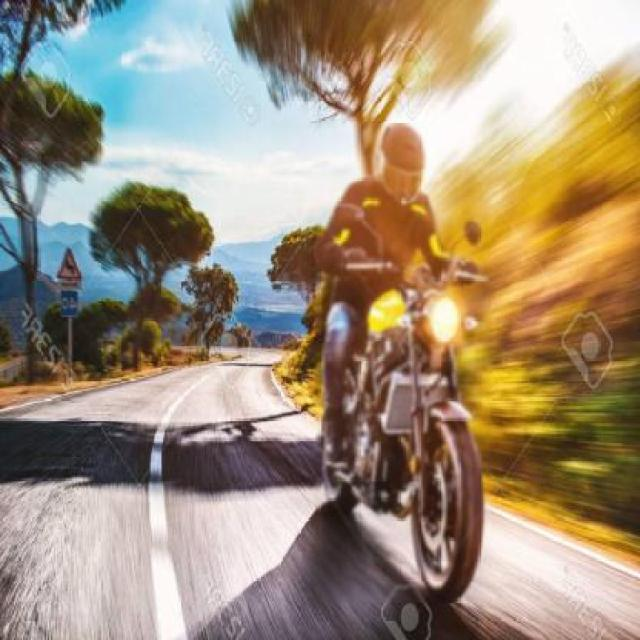helmet: (357, 126, 437, 219)
motorcycle: (276, 122, 493, 598)
